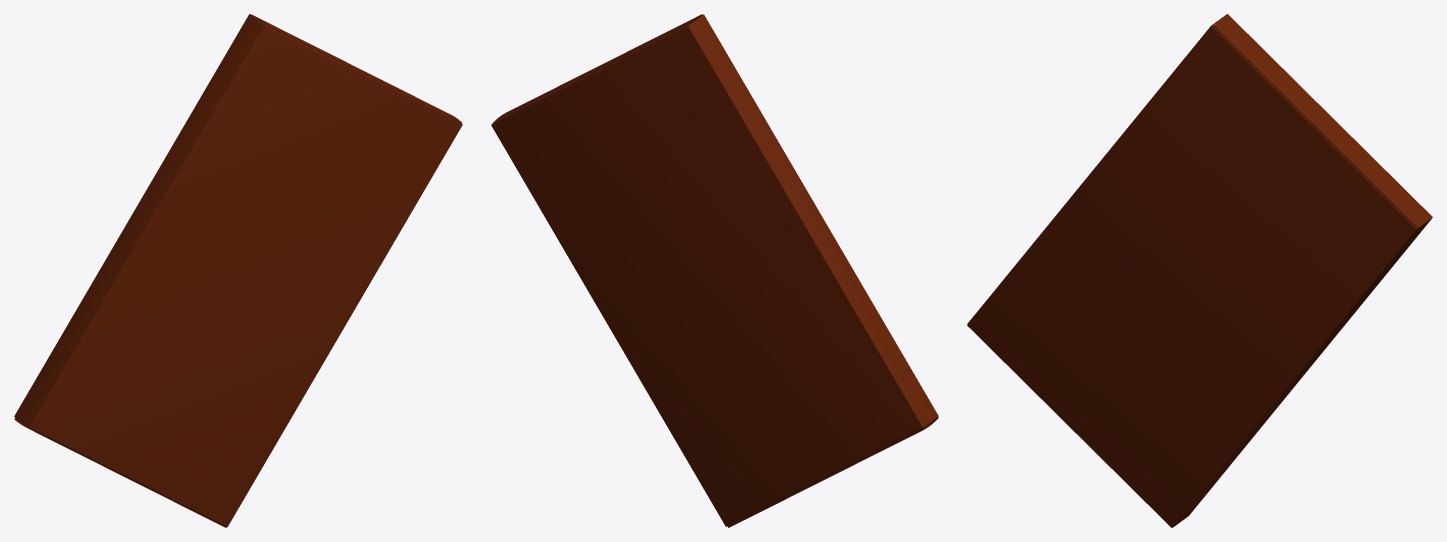
3 views of the same model, side by side, from view 1: azimuth 30°, elevation 25°; view 2: azimuth 150°, elevation 25°; view 3: azimuth 330°, elevation 25° (orthographic). The views are drawn at different scales.
Size of the model in its own units: 0.9175 by 1 by 0.0583.
